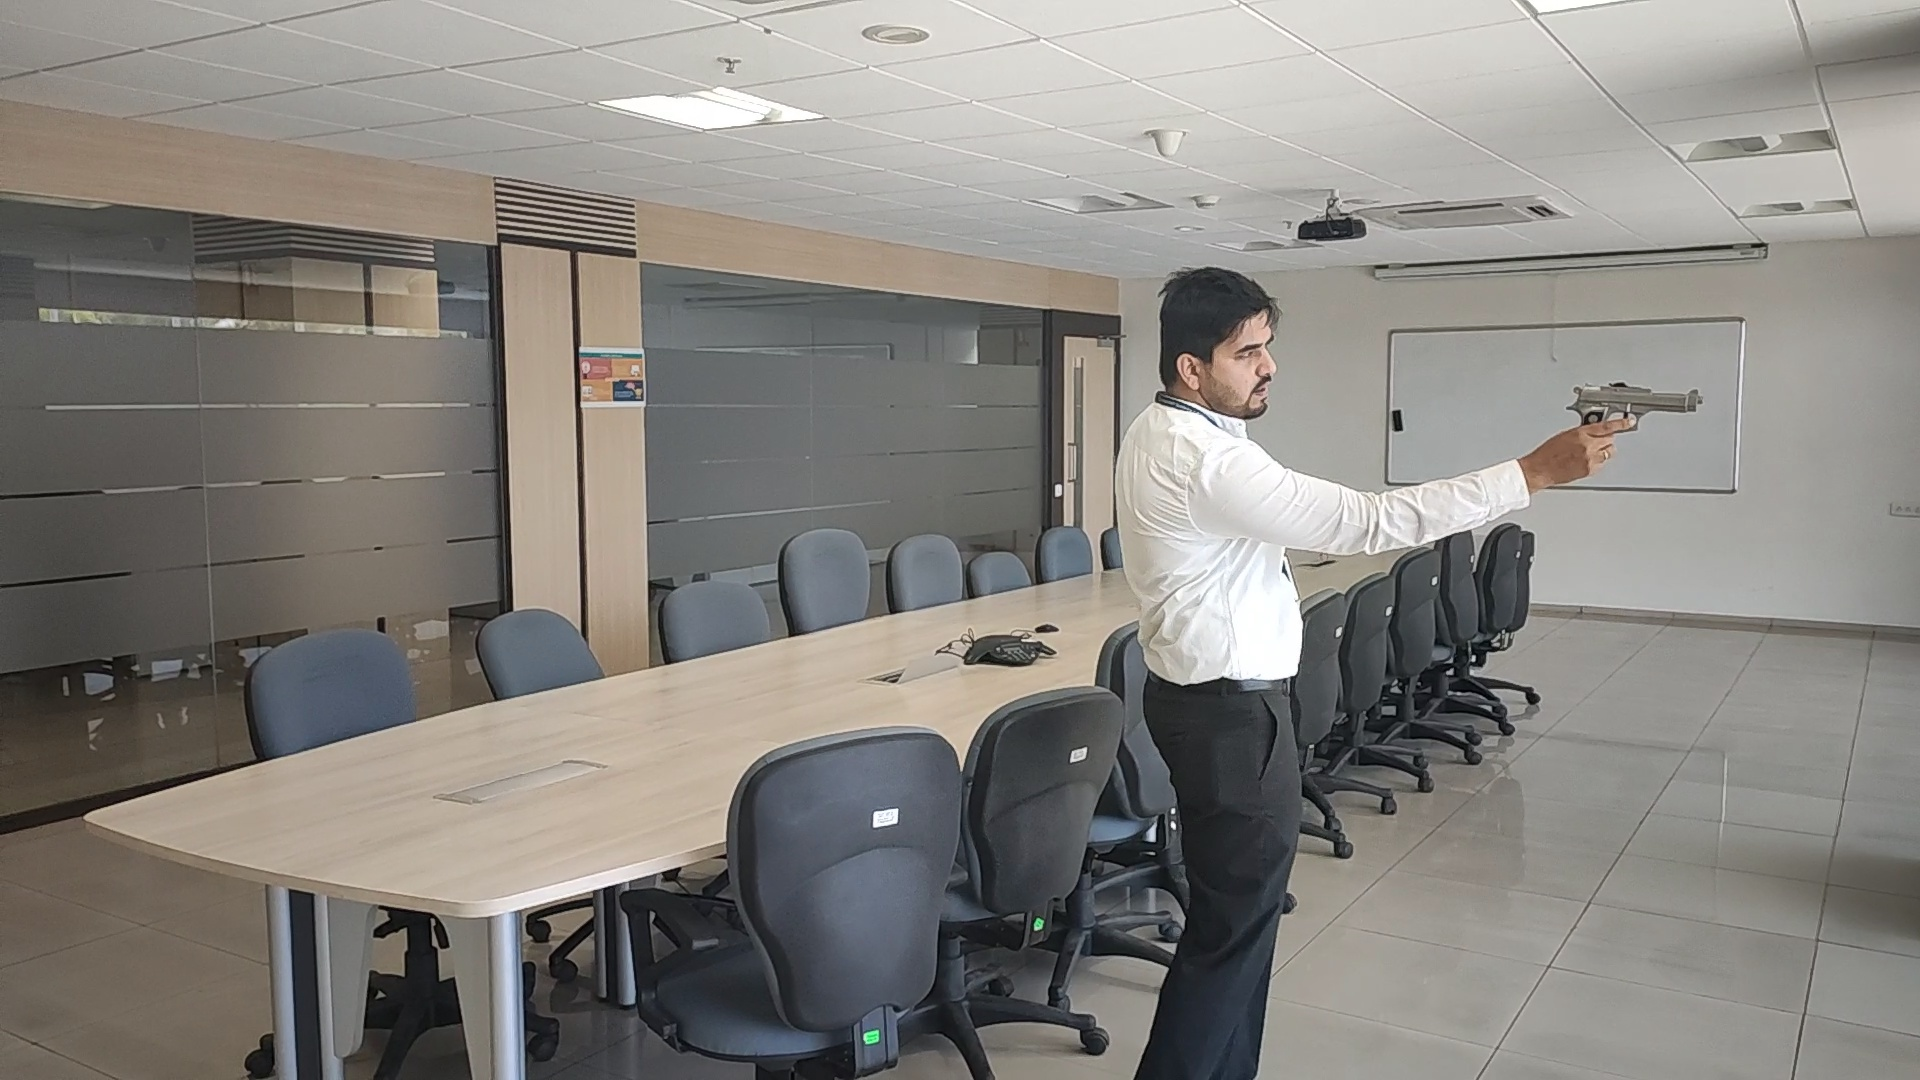gun: (1565, 381, 1704, 419)
